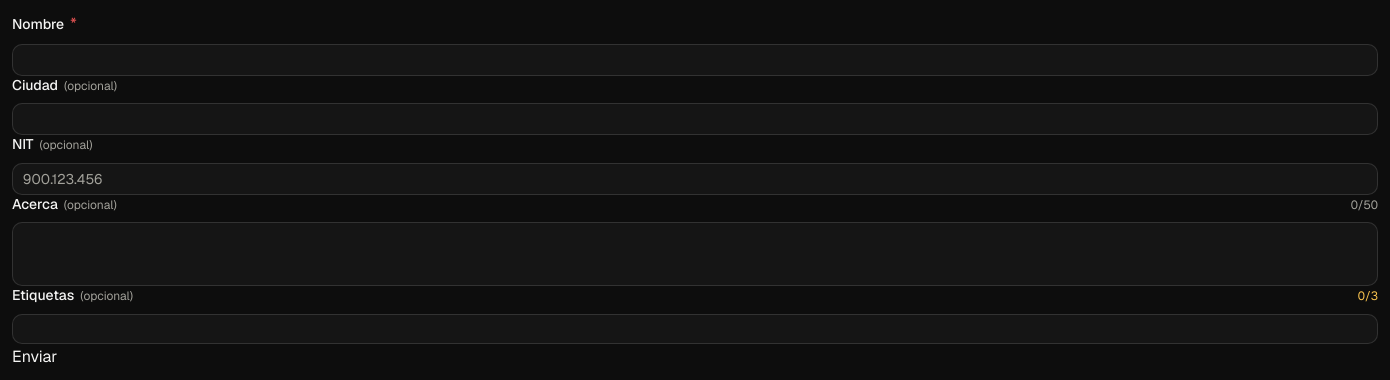
Scenario: NitField › limits the digits to ten
In the field labelled "NIT": coordinates (695, 178) [13,162,1377,194], type "123456789012345"
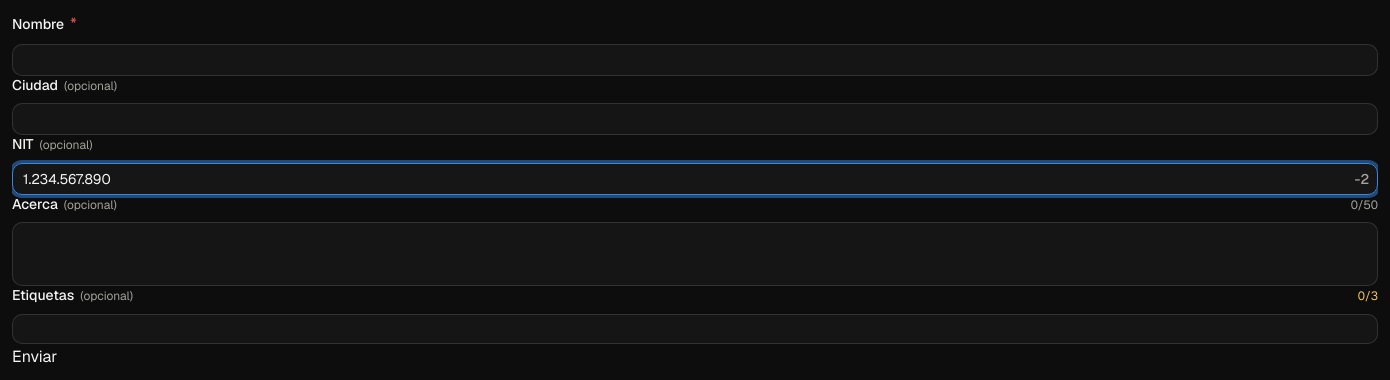
Result: the field labelled "NIT" holds "1.234.567.890" at [13,162,1355,194]
